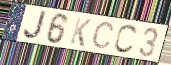3: (138, 26, 159, 58)
6: (46, 12, 69, 46)
C: (113, 23, 140, 55), (91, 21, 116, 50)
J: (22, 10, 49, 41)
K: (68, 16, 93, 49)
